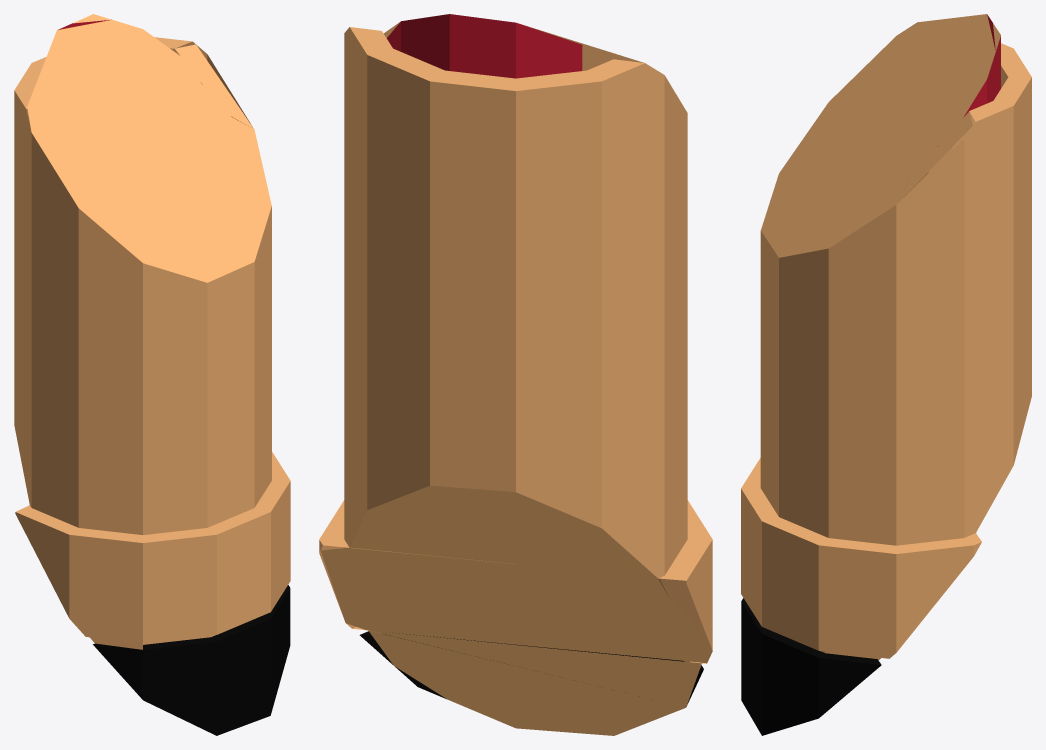
Rendered from LIPSTICK_MIDDLE_PART.dae.
3 renders of one model, left to right at view 1: azimuth 30°, elevation 25°; view 2: azimuth 150°, elevation 25°; view 3: azimuth 270°, elevation 25°, orthographic. The views are drawn at different scales.
Parts seen in each view (by area): view 1: lipstickMiddleModel; view 2: lipstickMiddleModel; view 3: lipstickMiddleModel.
Boxes of the visible parts, x1,y1,x2,y2 form: lipstickMiddleModel: (14,14,290,735); lipstickMiddleModel: (319,14,712,735); lipstickMiddleModel: (741,14,1031,735).
Bounding box in the file's own units: 0.0285 × 0.0677 × 0.0267.
